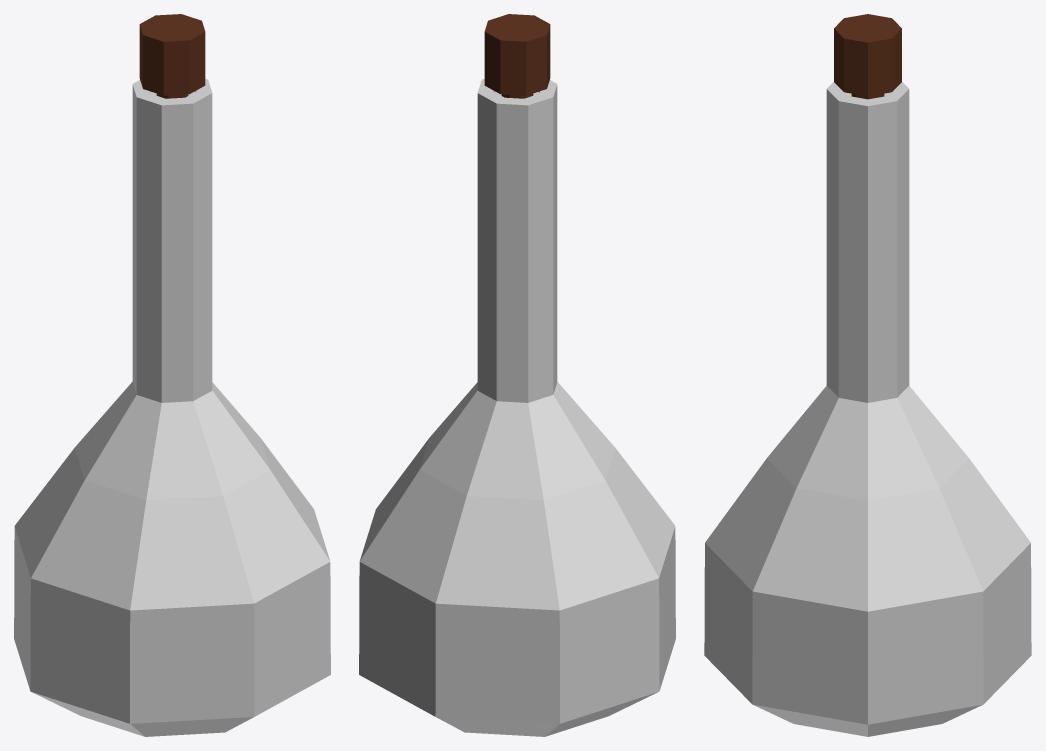
File: potion2.glb
3 views of the same model, side by side, from view 1: azimuth 30°, elevation 25°; view 2: azimuth 150°, elevation 25°; view 3: azimuth 270°, elevation 25° (orthographic).
Parts seen in each view (by area): view 1: Potion2; view 2: Potion2; view 3: Potion2.
Boxes of the visible parts, x1,y1,x2,y2 form: Potion2: (14, 14, 330, 736); Potion2: (359, 14, 675, 736); Potion2: (704, 14, 1031, 736).
Size of the model in its own units: 0.4769 by 1.07 by 0.4769.
